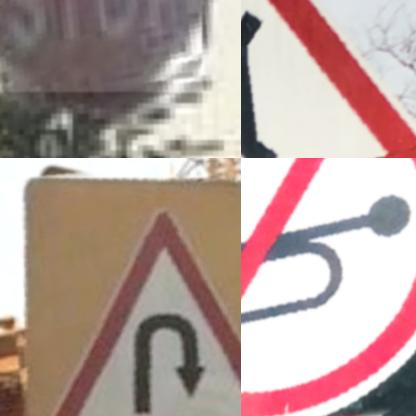Bridge Ahead: (241, 0, 416, 158)
No Horns: (241, 158, 416, 416)
U-Turn: (25, 178, 241, 416), (44, 223, 241, 416)
